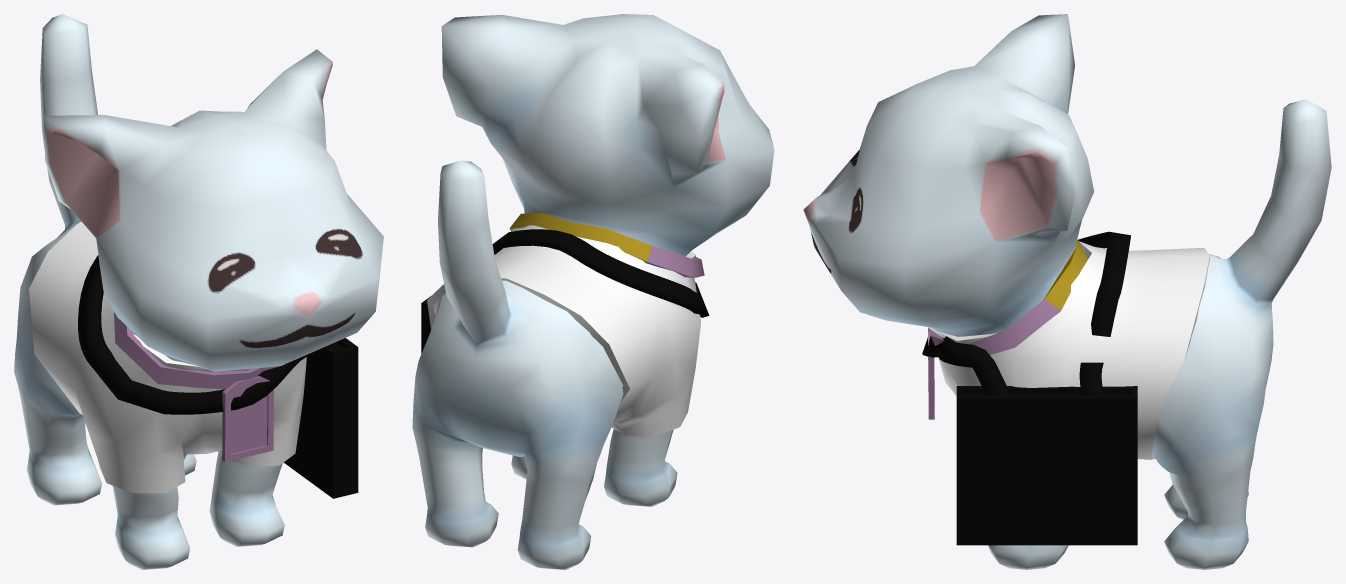
The model's file is Student Cat02_05.fbx.
3 views of the same model, side by side, from view 1: azimuth 30°, elevation 25°; view 2: azimuth 150°, elevation 25°; view 3: azimuth 270°, elevation 25° (orthographic). The views are drawn at different scales.
Visible parts, largest first — view 1: Cat_Base004, tshirt, ToteBag, id; view 2: Cat_Base004, tshirt, ToteBag, id; view 3: Cat_Base004, ToteBag, tshirt, id.
Boxes of the visible parts, x1=… form: Cat_Base004: x1=14, y1=14, x2=383, y2=569; tshirt: x1=29, y1=221, x2=306, y2=493; ToteBag: x1=78, y1=255, x2=358, y2=498; id: x1=114, y1=312, x2=284, y2=462; Cat_Base004: x1=412, y1=14, x2=774, y2=569; tshirt: x1=427, y1=225, x2=700, y2=436; ToteBag: x1=421, y1=229, x2=709, y2=353; id: x1=509, y1=213, x2=704, y2=277; Cat_Base004: x1=803, y1=14, x2=1331, y2=569; ToteBag: x1=922, y1=231, x2=1137, y2=545; tshirt: x1=928, y1=241, x2=1209, y2=459; id: x1=928, y1=239, x2=1087, y2=419.
Size of the model in its own units: 1.75 by 2.83 by 2.68.
5 materials, 1 textured.
